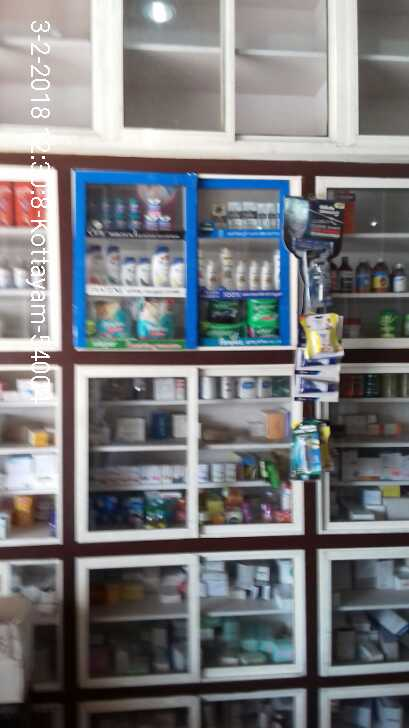vicks: (100, 190, 183, 237)
